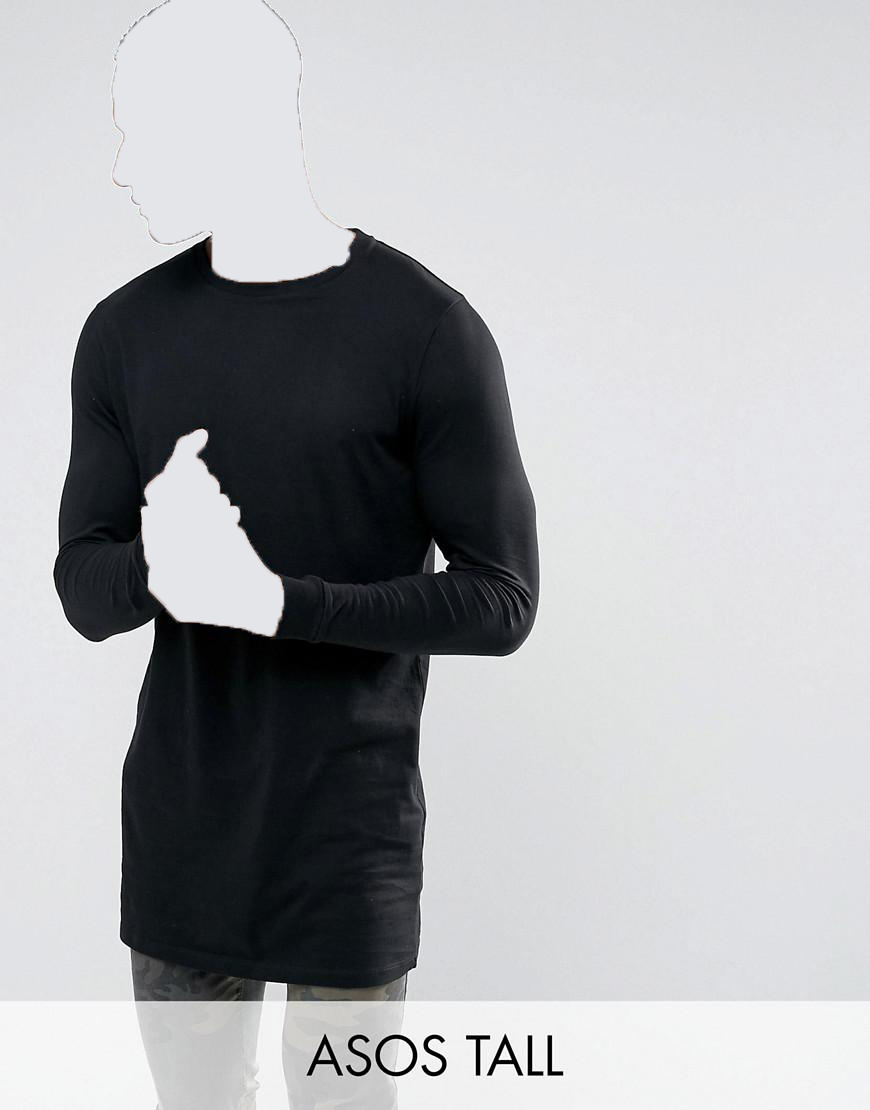teeshirt: (51, 232, 561, 1000)
